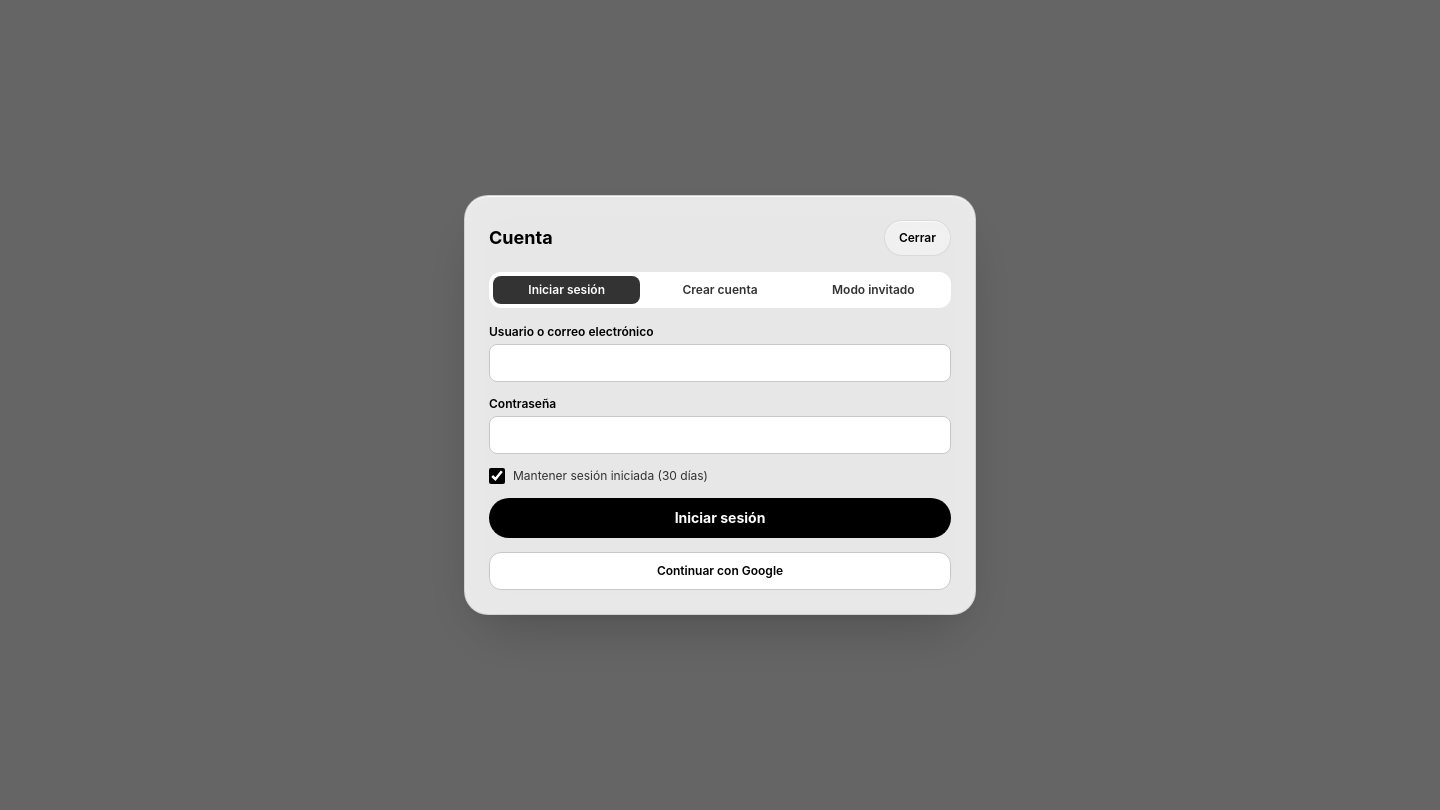
Test: UI Components Security & Input Validation › validates login/register inputs in AccountModal and supports authenticated session management without inline styles
The width and height of the screenshot is (1440, 810).
Later steps or results of the test are not shown.
Step 1. Type "<script>alert(1)</script>" into the field labelled "Usuario o correo electrónico" → (720,363), box [489, 344, 951, 382]
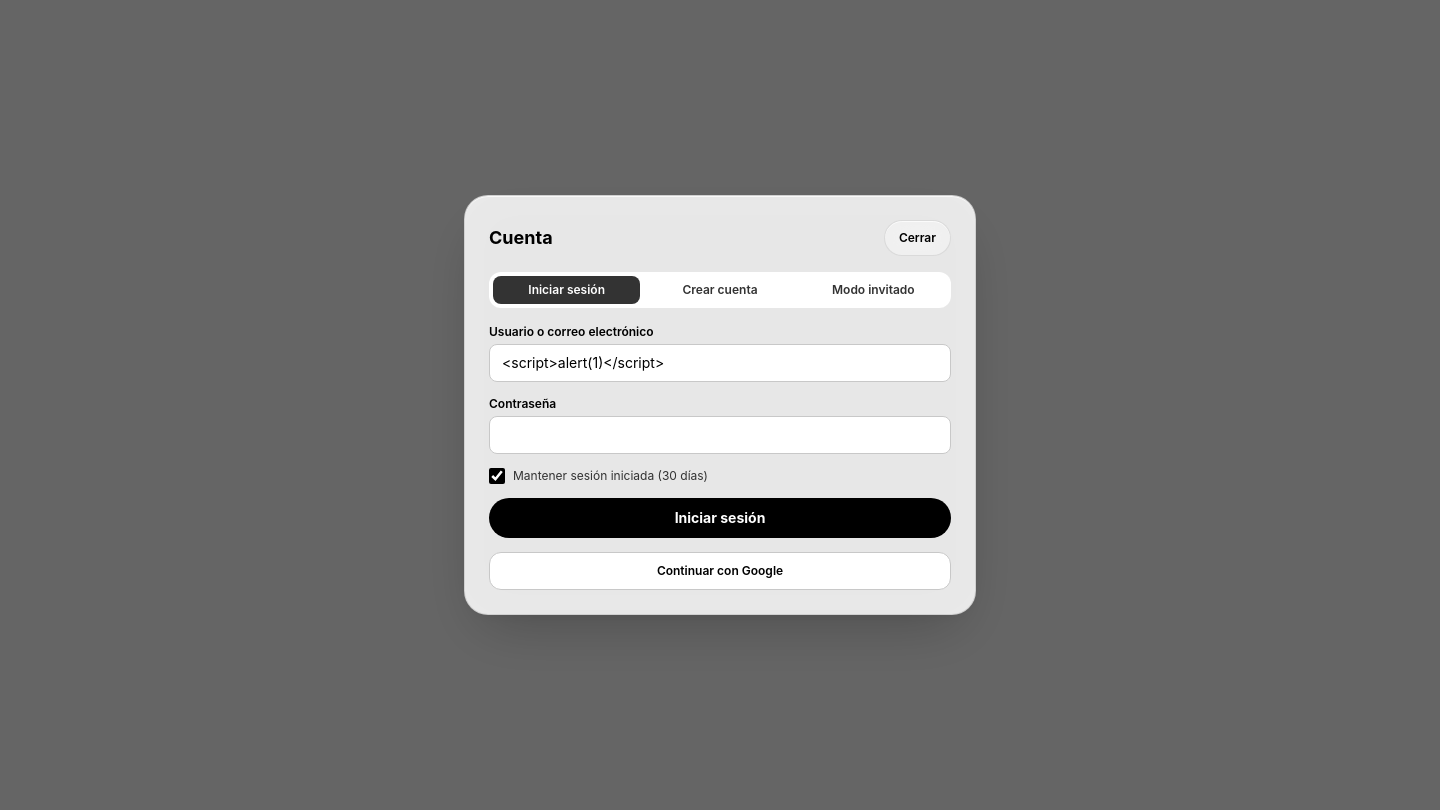
Step 2. Type "Secret1234" into the password field labelled "Contraseña" → (720,435), box [489, 416, 951, 454]
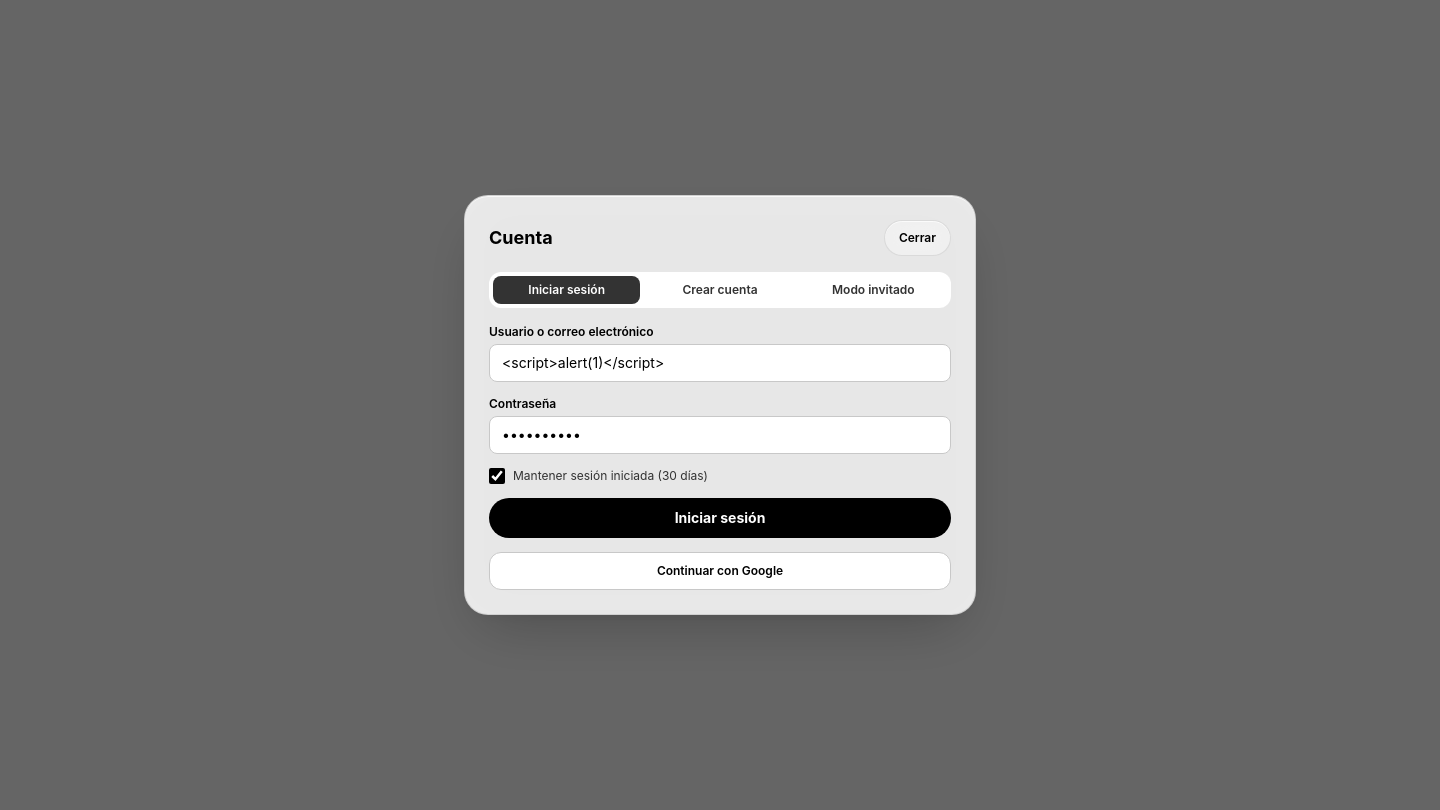
Step 3. Click the button "Iniciar sesión" → (720,518), box [489, 498, 951, 538]
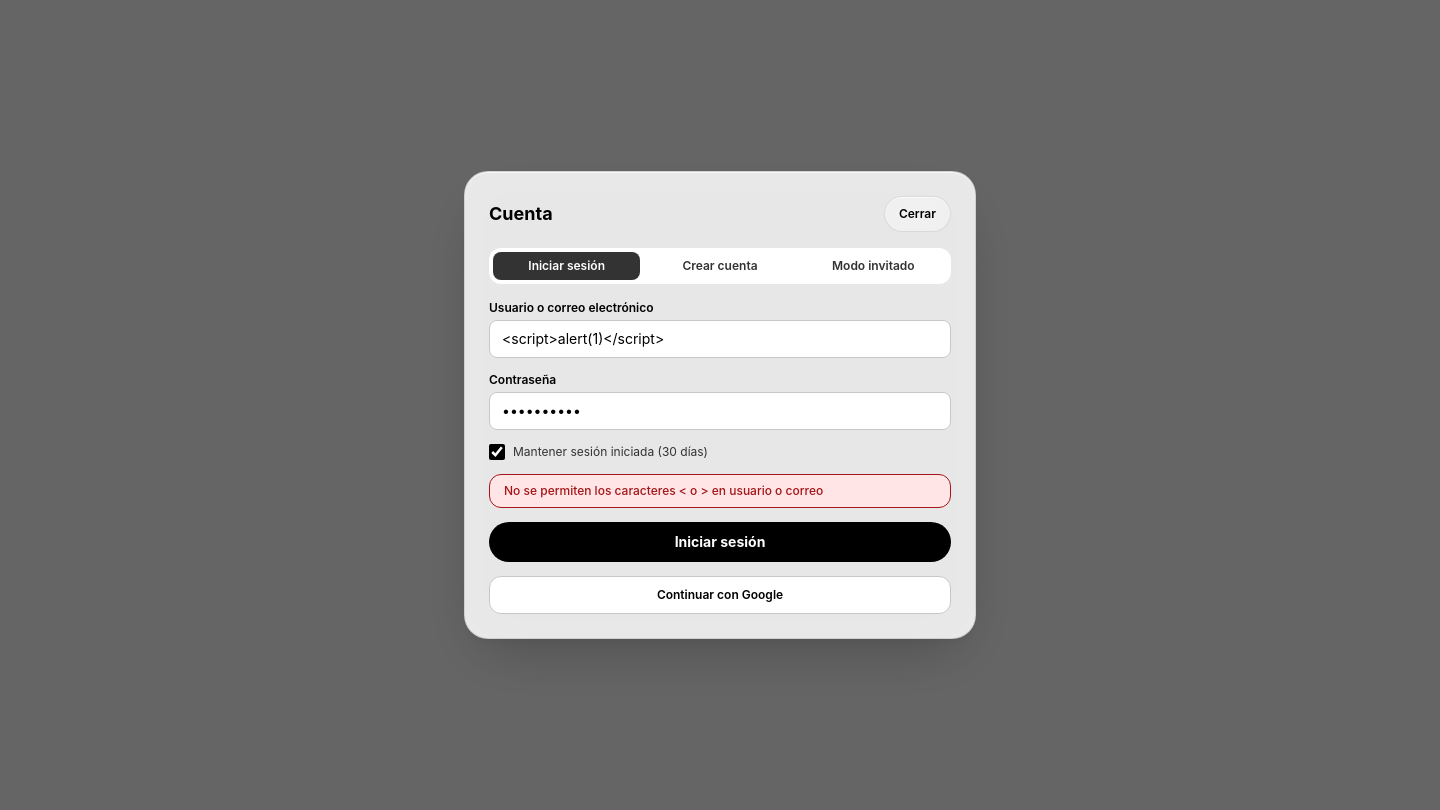
Now the message "No se permiten los caracteres < o > en usuario o correo" is shown, box [489, 474, 951, 508]
